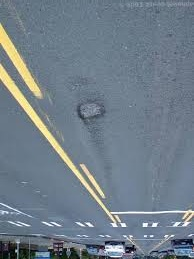pothole: (78, 96, 110, 127)
